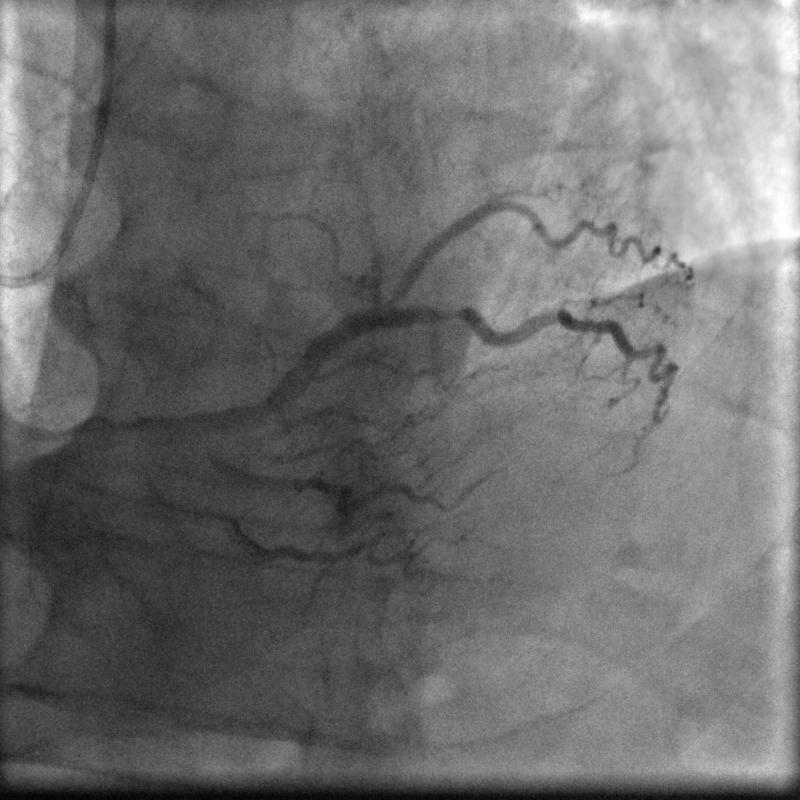Stenosis: (403, 296, 472, 331)
